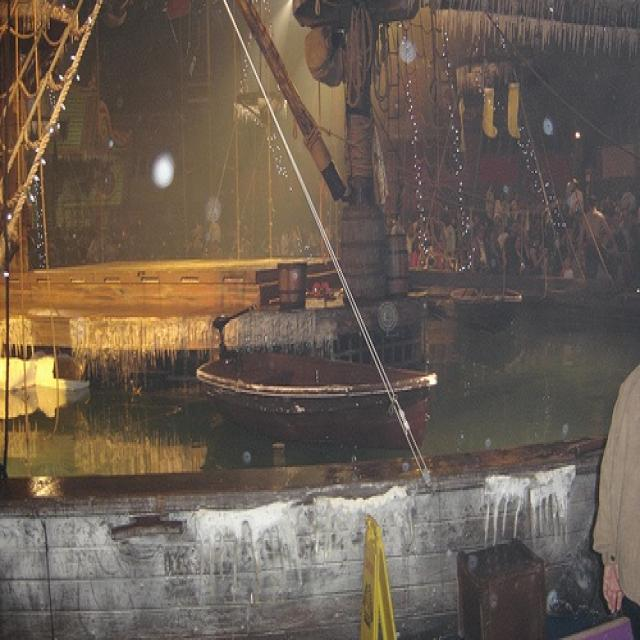boat: (192, 340, 445, 452), (448, 273, 525, 336)
